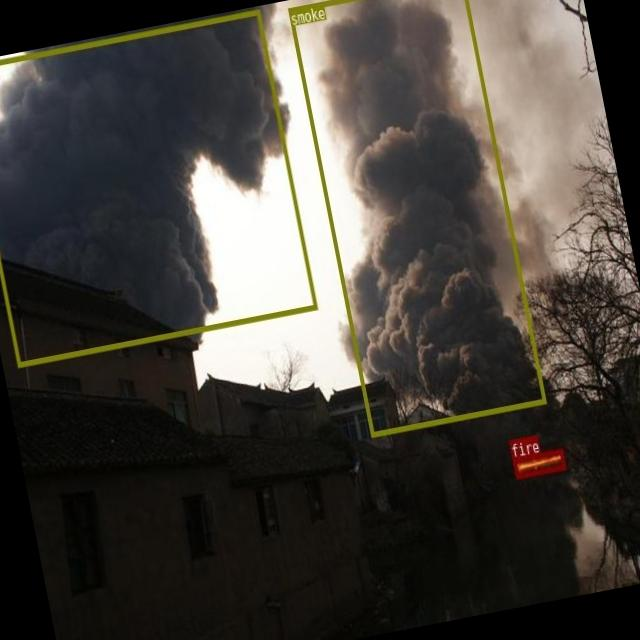fire: (512, 448, 566, 478)
smoke: (0, 9, 317, 367), (288, 0, 546, 436)
